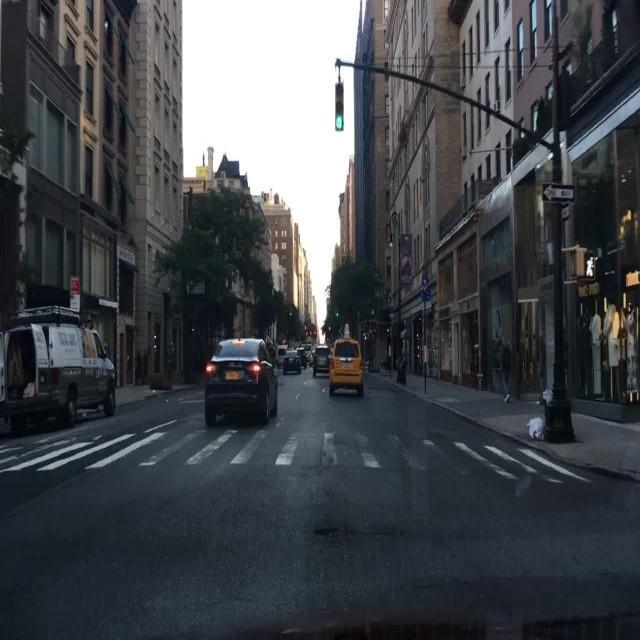normal: (0, 295, 129, 450), (202, 335, 279, 424), (329, 340, 366, 399), (280, 349, 303, 374), (312, 346, 330, 376)
